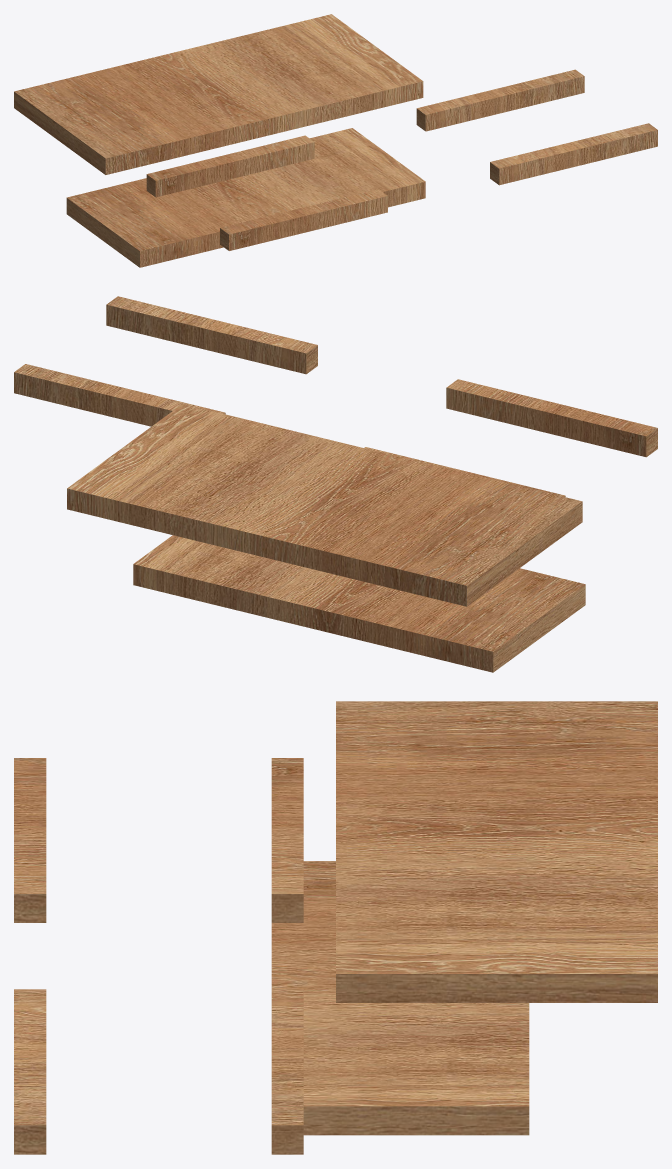
File: 19612_gpt-only.glb
3 renders of one model, top to bottom at view 1: azimuth 30°, elevation 25°; view 2: azimuth 150°, elevation 25°; view 3: azimuth 270°, elevation 25°, orthographic. The views are drawn at different scales.
Visible parts, largest first — view 1: ParentEmpty; view 2: ParentEmpty; view 3: ParentEmpty.
Part boxes in pixels (x1=…): ParentEmpty: x1=14, y1=14, x2=657, y2=267; ParentEmpty: x1=14, y1=296, x2=657, y2=672; ParentEmpty: x1=14, y1=701, x2=657, y2=1154.
Size of the model in its own units: 1 by 0.2072 by 0.6897.
Materials: 1 (1 with a texture image).
